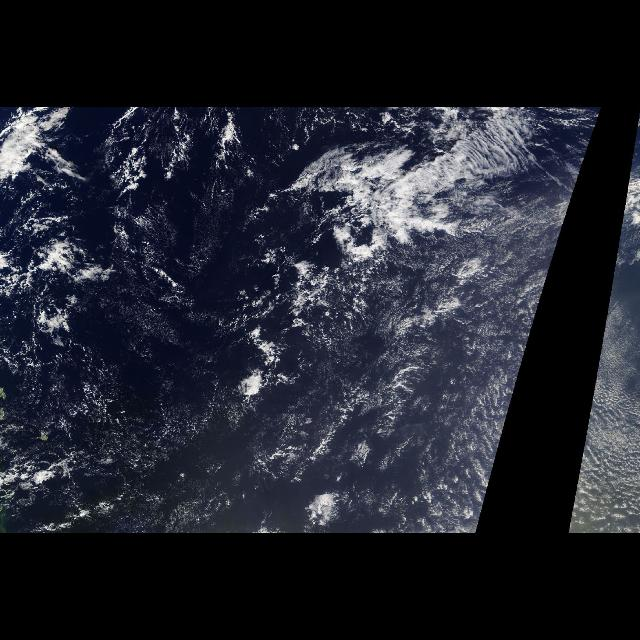Gravel: (231, 170, 407, 458)
Sugar: (381, 243, 559, 532), (568, 243, 638, 532)
